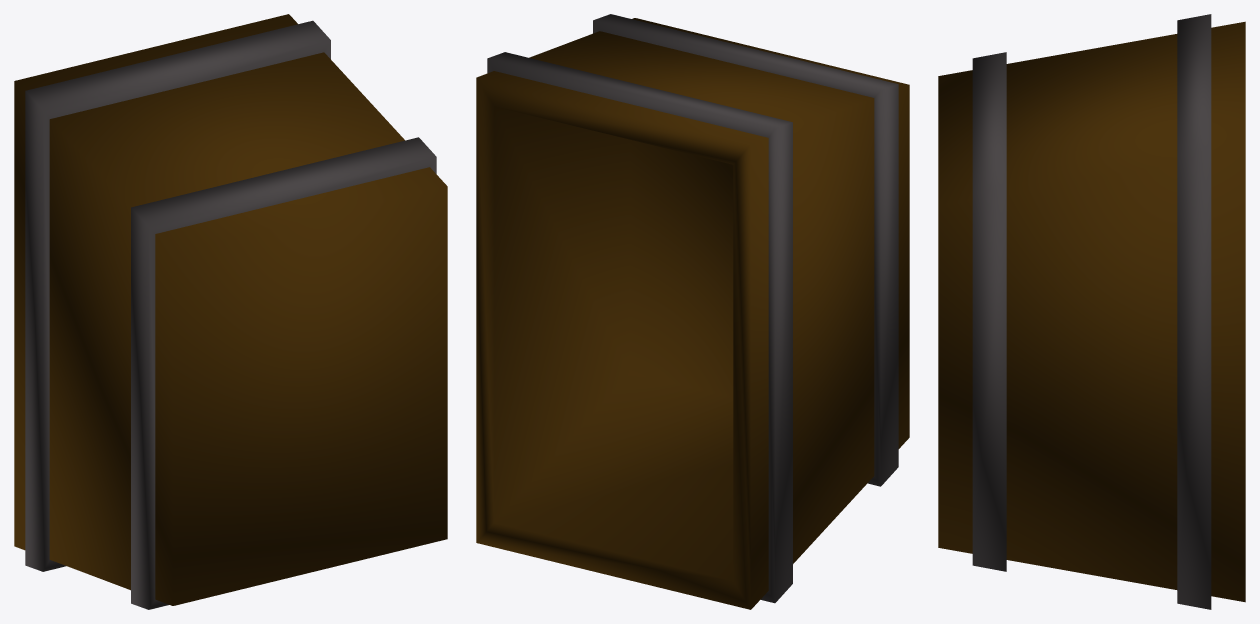
File: Minecart.fbx
3 renders of one model, left to right at view 1: azimuth 30°, elevation 25°; view 2: azimuth 150°, elevation 25°; view 3: azimuth 270°, elevation 25°, orthographic. The views are drawn at different scales.
Visible parts, largest first — view 1: LP_Minecart; view 2: LP_Minecart; view 3: LP_Minecart.
Part boxes in pixels (x1=…): LP_Minecart: x1=14, y1=14, x2=447, y2=609; LP_Minecart: x1=476, y1=14, x2=909, y2=609; LP_Minecart: x1=938, y1=14, x2=1245, y2=609.
Bounding box in the file's own units: 2.1 × 3.31 × 2.
